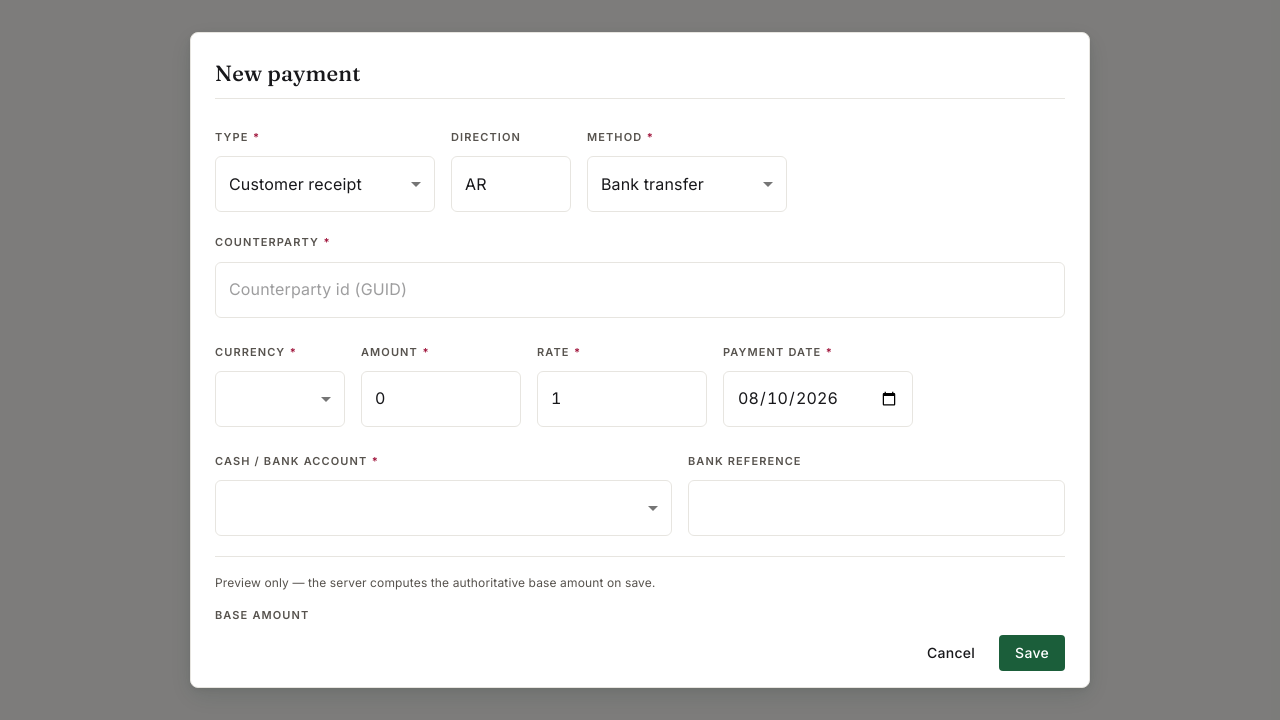
Test: PaymentFormDialog (SDD-UI-FIN-002 §2.3, §2.5) › blocks an invalid submit client-side before any request is issued
What coordinates should you click on to do the following:
click the button "Save"
I would click on:
 (1032, 653)
Its box is [999,634,1065,671].
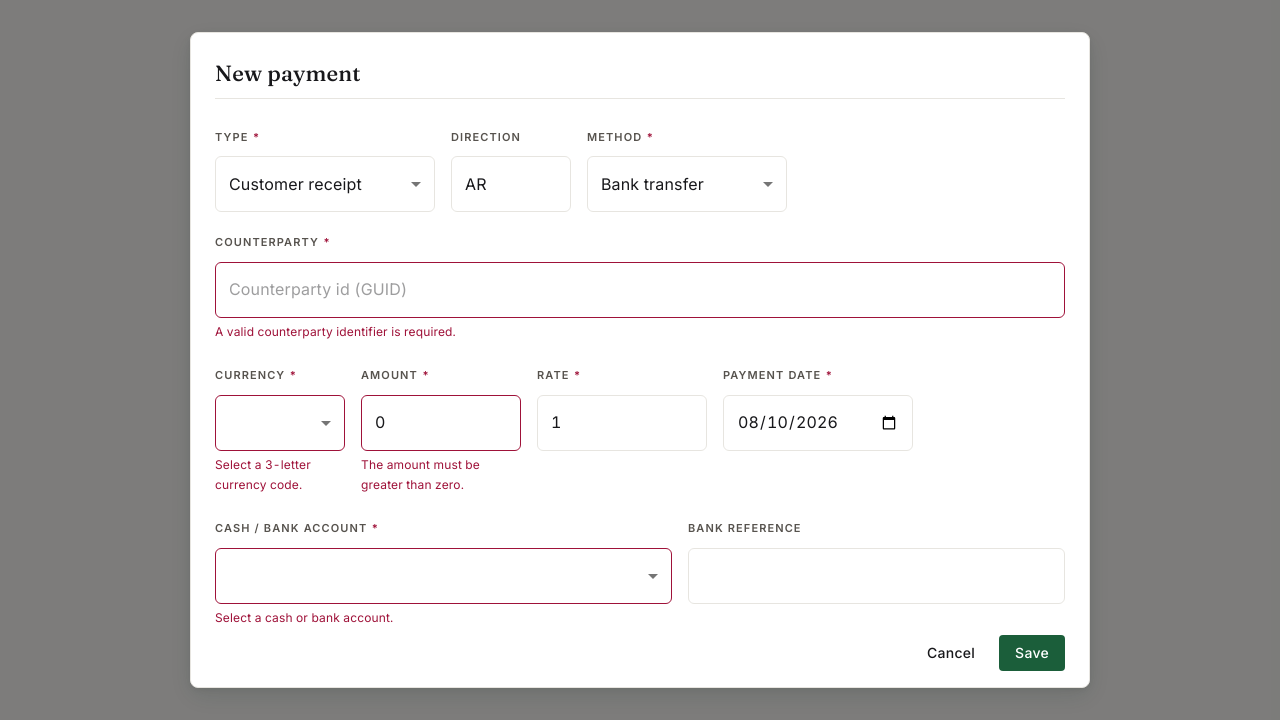
Now the text "A valid counterparty identifier is required." is shown, box [215,324,456,338]
